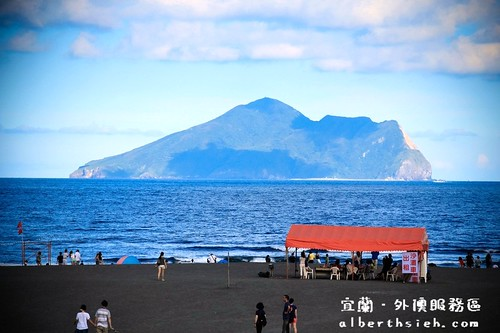turtleIsland: (69, 93, 434, 184)
